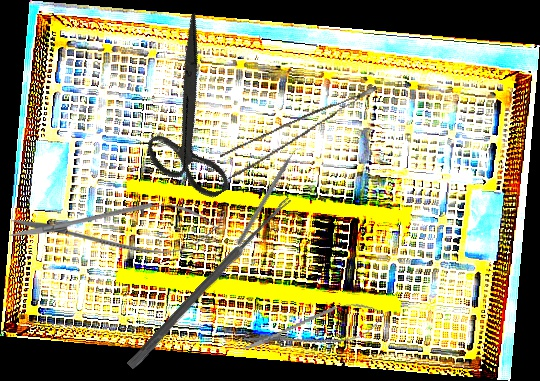Chopper: (235, 142, 307, 249)
Iris Scissors: (97, 12, 284, 216)
Micro Scissor: (8, 201, 221, 255), (237, 296, 389, 363)
Surgical Spoon: (126, 194, 293, 371)
Tissue Forceps: (216, 85, 388, 180)
